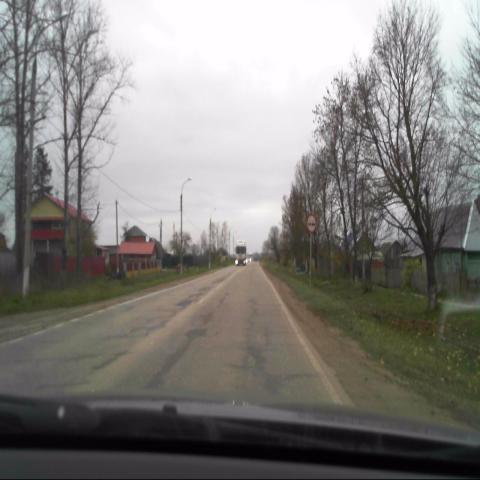3_20: (306, 215, 315, 232)
